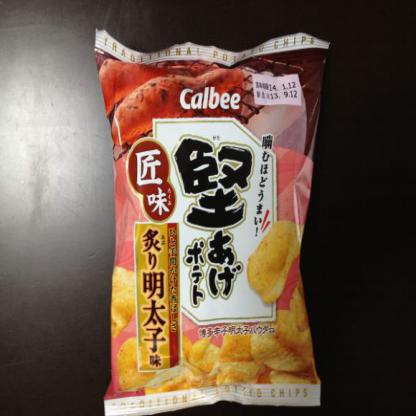potatochip: (85, 24, 333, 415)
